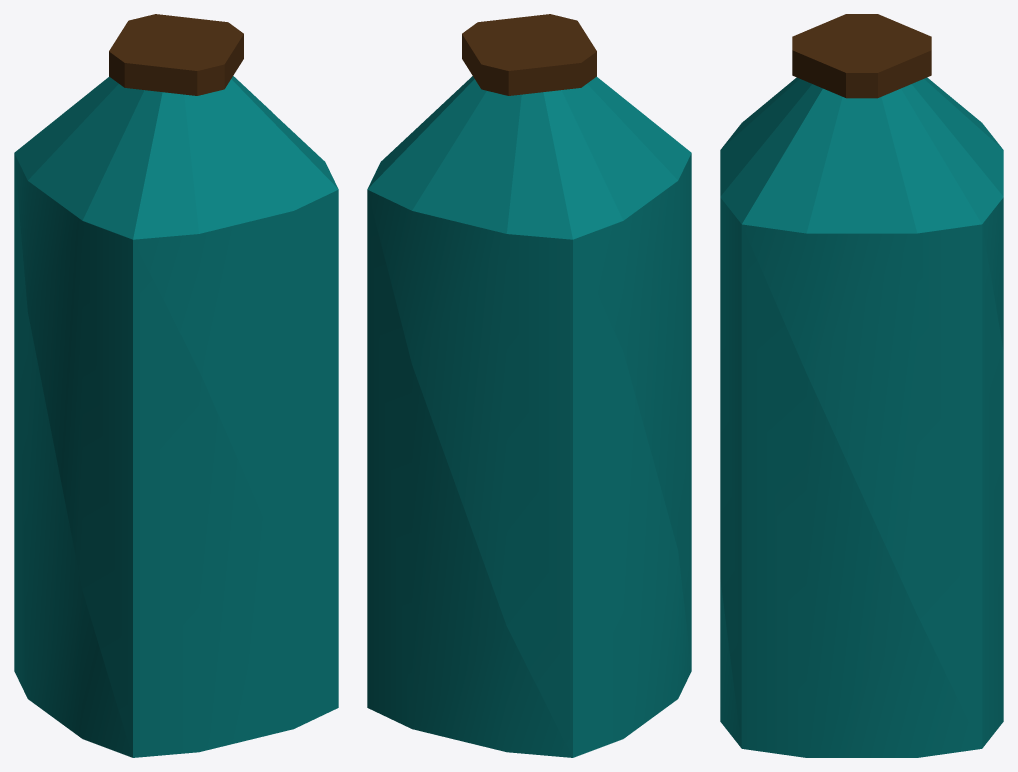
The model's file is Botella_Rota.fbx.
3 renders of one model, left to right at view 1: azimuth 30°, elevation 25°; view 2: azimuth 150°, elevation 25°; view 3: azimuth 270°, elevation 25°, orthographic.
Visible parts, largest first — view 1: Object170, Object234, Object222, Object174, Object212, Object184, Tapa002, Object186, Object244, Object236; view 2: Object176, Object178, Object174, Object222, Object216, Object184, Tapa002, Object240, Object244, Object192; view 3: Object166, Object230, Object192, Object234, Object178, Tapa002, Object212, Object236, Object216, Object240, Object176, Object170 (+1 smaller).
Part boxes in pixels (box(x1,y1,x2,y2)): Object170: box(133, 240, 338, 757); Object234: box(133, 189, 338, 706); Object222: box(14, 153, 132, 756); Object174: box(14, 156, 132, 757); Object212: box(133, 79, 338, 239); Object184: box(14, 91, 162, 239); Tapa002: box(109, 14, 243, 95); Object186: box(133, 90, 221, 239); Object244: box(15, 76, 153, 152); Object236: box(231, 76, 337, 188); Object176: box(367, 189, 572, 757); Object178: box(367, 190, 572, 757); Object174: box(573, 240, 691, 757); Object222: box(573, 153, 691, 668); Object216: box(367, 92, 572, 239); Object184: box(573, 76, 691, 239); Tapa002: box(462, 14, 596, 95); Object240: box(368, 79, 532, 188); Object244: box(543, 86, 585, 238); Object192: box(368, 76, 474, 188); Object166: box(741, 224, 981, 757); Object230: box(742, 224, 982, 748); Object192: box(742, 88, 981, 233); Object234: box(720, 197, 741, 745); Object178: box(982, 226, 1003, 747); Tapa002: box(792, 14, 931, 98); Object212: box(720, 86, 822, 223); Object236: box(742, 88, 891, 223); Object216: box(920, 77, 1003, 223); Object240: box(901, 80, 981, 223); Object176: box(982, 197, 1003, 350); Object170: box(720, 579, 741, 747).
Size of the model in its own units: 4.07 by 10.35 by 4.07.
